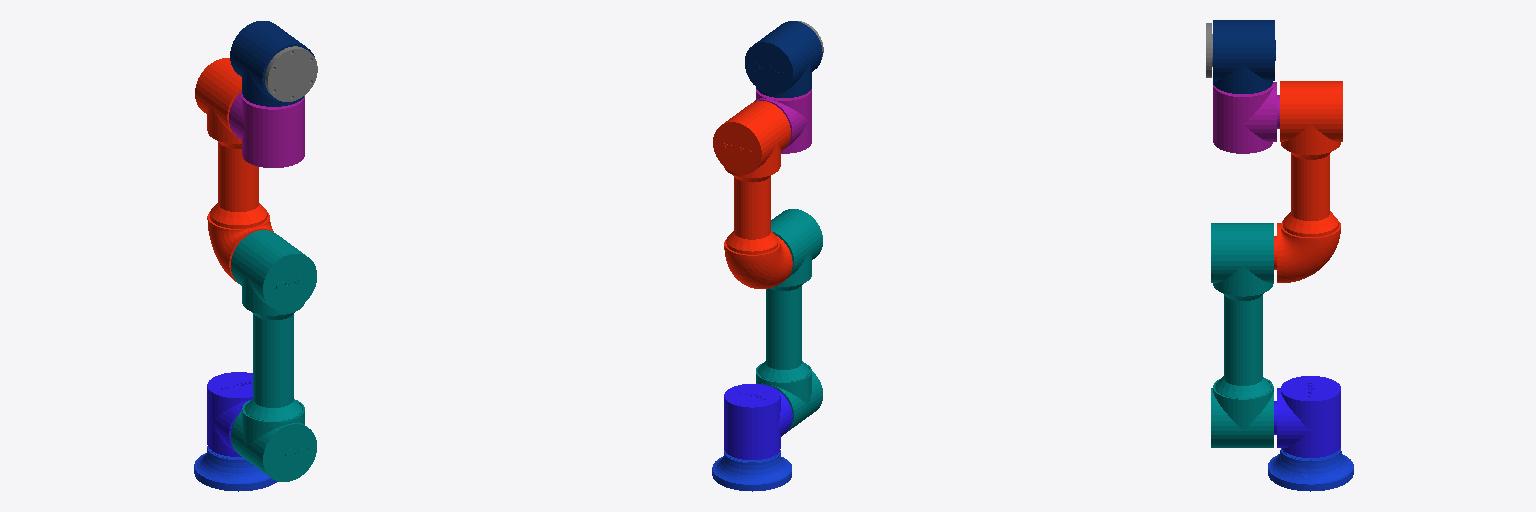
URDF robot description (mockway_description):
<?xml version="1.0"?>
<robot name="mockway_description">

  <link name="base_link">
    <inertial>
      <mass value="0.097"/>
      <origin xyz="-0.000 -0.000 0.014" rpy="0 0 0"/>
      <inertia ixx="0.000049" iyy="0.000049" izz="0.000080" ixy="-0.000000" ixz="0.000000" iyz="0.000000"/>
    </inertial>
    <visual>
      <origin xyz="0 0 0" rpy="0 0 0"/>
      <geometry>
        <mesh filename="package://mockway_description/meshes/base_link.stl"/>
      </geometry>
      <material name="">
        <color rgba="0.127 0.301 0.847 1.000"/>
      </material>
    </visual>
    <collision>
      <origin xyz="0 0 0" rpy="0 0 0"/>
      <geometry>
        <mesh filename="package://mockway_description/meshes/base_link.stl"/>
      </geometry>
    </collision>
  </link>

  <joint name="joint1" type="revolute">
    <parent link="base_link"/>
    <child link="link1"/>
    <origin xyz="0.000 0.000 0.064" rpy="0.000 -0.000 0.000"/>
    <axis xyz="0 0 1"/>
    <limit lower="-6.280" upper="6.280" effort="9.000" velocity="3.140"/>
  </joint>

  <link name="link1">
    <inertial>
      <mass value="0.378"/>
      <origin xyz="0.000 -0.003 -0.005" rpy="0 0 0"/>
      <inertia ixx="0.000195" iyy="0.000176" izz="0.000204" ixy="-0.000000" ixz="-0.000000" iyz="0.000005"/>
    </inertial>
    <visual>
      <origin xyz="0 0 0" rpy="0 0 0"/>
      <geometry>
        <mesh filename="package://mockway_description/meshes/link1.stl"/>
      </geometry>
      <material name="">
        <color rgba="0.231 0.162 1.000 1.000"/>
      </material>
    </visual>
    <collision>
      <origin xyz="0 0 0" rpy="0 0 0"/>
      <geometry>
        <mesh filename="package://mockway_description/meshes/link1.stl"/>
      </geometry>
    </collision>
  </link>

  <joint name="joint2" type="revolute">
    <parent link="link1"/>
    <child link="link2"/>
    <origin xyz="0.000 0.000 0.000" rpy="1.571 0 0.000"/>
    <axis xyz="0 0 1"/>
    <limit lower="-6.280" upper="6.280" effort="9.000" velocity="3.140"/>
  </joint>

  <link name="link2">
    <inertial>
      <mass value="0.568"/>
      <origin xyz="0.000 0.035 0.069" rpy="0 0 0"/>
      <inertia ixx="0.002661" iyy="0.000305" izz="0.002654" ixy="-0.000000" ixz="-0.000000" iyz="-0.000043"/>
    </inertial>
    <visual>
      <origin xyz="0 0 0" rpy="0 0 0"/>
      <geometry>
        <mesh filename="package://mockway_description/meshes/link2.stl"/>
      </geometry>
      <material name="">
        <color rgba="0.031 0.558 0.558 1.000"/>
      </material>
    </visual>
    <collision>
      <origin xyz="0 0 0" rpy="0 0 0"/>
      <geometry>
        <mesh filename="package://mockway_description/meshes/link2.stl"/>
      </geometry>
    </collision>
  </link>

  <joint name="joint3" type="revolute">
    <parent link="link2"/>
    <child link="link3"/>
    <origin xyz="0.000 0.190 0.000" rpy="0.000 -0.000 0.000"/>
    <axis xyz="0 0 1"/>
    <limit lower="-3.140" upper="3.140" effort="9.000" velocity="3.140"/>
  </joint>

  <link name="link3">
    <inertial>
      <mass value="0.488"/>
      <origin xyz="-0.000 0.131 0.006" rpy="0 0 0"/>
      <inertia ixx="0.001818" iyy="0.000257" izz="0.001814" ixy="0.000000" ixz="-0.000000" iyz="0.000079"/>
    </inertial>
    <visual>
      <origin xyz="0 0 0" rpy="0 0 0"/>
      <geometry>
        <mesh filename="package://mockway_description/meshes/link3.stl"/>
      </geometry>
      <material name="">
        <color rgba="1.000 0.212 0.080 1.000"/>
      </material>
    </visual>
    <collision>
      <origin xyz="0 0 0" rpy="0 0 0"/>
      <geometry>
        <mesh filename="package://mockway_description/meshes/link3.stl"/>
      </geometry>
    </collision>
  </link>

  <joint name="joint4" type="revolute">
    <parent link="link3"/>
    <child link="link4"/>
    <origin xyz="0.000 0.163 0.000" rpy="0.000 -0.000 0.000"/>
    <axis xyz="0 0 1"/>
    <limit lower="-6.280" upper="6.280" effort="3.000" velocity="3.140"/>
  </joint>

  <link name="link4">
    <inertial>
      <mass value="0.378"/>
      <origin xyz="0.000 0.005 0.068" rpy="0 0 0"/>
      <inertia ixx="0.000195" iyy="0.000204" izz="0.000176" ixy="0.000000" ixz="-0.000000" iyz="-0.000005"/>
    </inertial>
    <visual>
      <origin xyz="0 0 0" rpy="0 0 0"/>
      <geometry>
        <mesh filename="package://mockway_description/meshes/link4.stl"/>
      </geometry>
      <material name="">
        <color rgba="0.701 0.162 0.672 1.000"/>
      </material>
    </visual>
    <collision>
      <origin xyz="0 0 0" rpy="0 0 0"/>
      <geometry>
        <mesh filename="package://mockway_description/meshes/link4.stl"/>
      </geometry>
    </collision>
  </link>

  <joint name="joint5" type="revolute">
    <parent link="link4"/>
    <child link="link5"/>
    <origin xyz="0.000 0.000 0.071" rpy="-1.571 0.000 0.000"/>
    <axis xyz="0 0 1"/>
    <limit lower="-6.280" upper="6.280" effort="3.000" velocity="3.140"/>
  </joint>

  <link name="link5">
    <inertial>
      <mass value="0.378"/>
      <origin xyz="-0.000 -0.005 0.068" rpy="0 0 0"/>
      <inertia ixx="0.000195" iyy="0.000204" izz="0.000176" ixy="0.000000" ixz="0.000000" iyz="0.000005"/>
    </inertial>
    <visual>
      <origin xyz="0 0 0" rpy="0 0 0"/>
      <geometry>
        <mesh filename="package://mockway_description/meshes/link5.stl"/>
      </geometry>
      <material name="">
        <color rgba="0.061 0.223 0.456 1.000"/>
      </material>
    </visual>
    <collision>
      <origin xyz="0 0 0" rpy="0 0 0"/>
      <geometry>
        <mesh filename="package://mockway_description/meshes/link5.stl"/>
      </geometry>
    </collision>
  </link>

  <joint name="joint6" type="revolute">
    <parent link="link5"/>
    <child link="link6"/>
    <origin xyz="0.000 -0.039 0.071" rpy="1.571 -0.000 0.000"/>
    <axis xyz="0 0 1"/>
    <limit lower="-6.280" upper="6.280" effort="3.000" velocity="3.140"/>
  </joint>

  <link name="link6">
    <inertial>
      <mass value="0.016"/>
      <origin xyz="0.000 -0.000 -0.004" rpy="0 0 0"/>
      <inertia ixx="0.000003" iyy="0.000003" izz="0.000006" ixy="0.000000" ixz="0.000000" iyz="0.000000"/>
    </inertial>
    <visual>
      <origin xyz="0 0 0" rpy="0 0 0"/>
      <geometry>
        <mesh filename="package://mockway_description/meshes/link6.stl"/>
      </geometry>
      <material name="">
        <color rgba="0.527 0.527 0.527 1.000"/>
      </material>
    </visual>
    <collision>
      <origin xyz="0 0 0" rpy="0 0 0"/>
      <geometry>
        <mesh filename="package://mockway_description/meshes/link6.stl"/>
      </geometry>
    </collision>
  </link>

</robot>

--- What the picture shows (computed from the rendered views, not written in the file) ---
Views: 3 orthographic renders of the robot side by side, from view 1: azimuth 30°, elevation 25°; view 2: azimuth 150°, elevation 25°; view 3: azimuth 270°, elevation 25°.
Robot: mockway_description — 7 links, 6 joints (6 revolute); root link base_link; default pose: every joint at zero.
Links seen in each view (by area): view 1: link2, link3, link4, link5, link1, link6, base_link; view 2: link3, link2, link5, link1, base_link, link4; view 3: link2, link3, link1, link5, link4, base_link.
Link boxes in pixels (box(x1,y1,x2,y2)): link2: box(231, 230, 316, 481); link3: box(195, 58, 273, 283); link4: box(229, 92, 304, 167); link5: box(230, 21, 314, 106); link1: box(207, 372, 252, 456); link6: box(265, 46, 317, 101); base_link: box(194, 446, 277, 491); link3: box(713, 101, 792, 288); link2: box(756, 209, 822, 433); link5: box(745, 21, 822, 97); link1: box(724, 384, 792, 459); base_link: box(712, 450, 791, 491); link4: box(754, 89, 811, 153); link2: box(1211, 223, 1273, 447); link3: box(1274, 81, 1342, 282); link1: box(1274, 376, 1340, 457); link5: box(1213, 20, 1275, 93); link4: box(1213, 82, 1279, 153); base_link: box(1268, 448, 1353, 491).
Bounding box of the posed robot: 0.09 × 0.1546 × 0.5193 m (x, y, z).
Meshes: 7 distinct files referenced, 7 mesh visuals loaded (7 binary STL).
